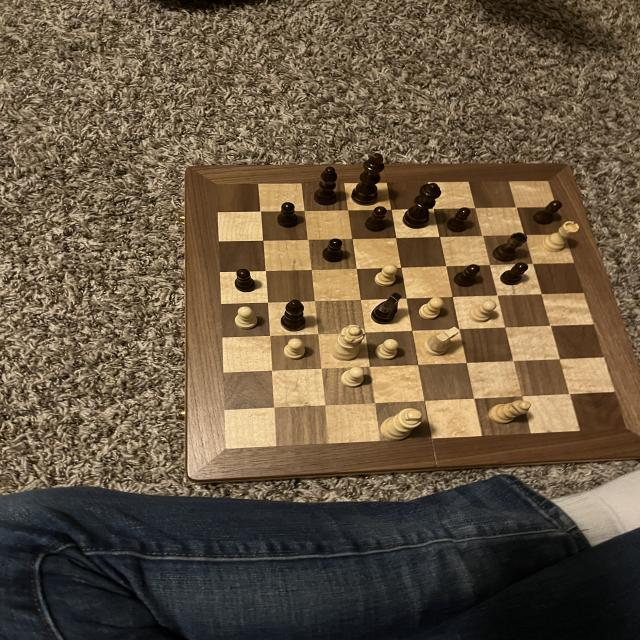bishop: (310, 164, 341, 209), (278, 298, 312, 332)
black-bishop: (399, 181, 443, 231), (349, 150, 387, 207)
black-king: (488, 232, 531, 264), (368, 290, 403, 328)
black-knight: (442, 206, 473, 237), (450, 262, 484, 290), (499, 262, 533, 287), (532, 199, 566, 224), (363, 205, 390, 236), (230, 266, 259, 294), (320, 236, 347, 266), (275, 202, 301, 229)
black-rook: (486, 396, 532, 426)
white-bishop: (377, 406, 426, 445)
white-king: (423, 326, 460, 357)
white-knight: (465, 299, 501, 326), (230, 304, 260, 332), (415, 295, 445, 323), (371, 262, 400, 289), (374, 337, 403, 362), (281, 338, 311, 362), (338, 367, 369, 390)
white-pawn: (328, 324, 368, 363)
white-queen: (540, 219, 582, 254)
